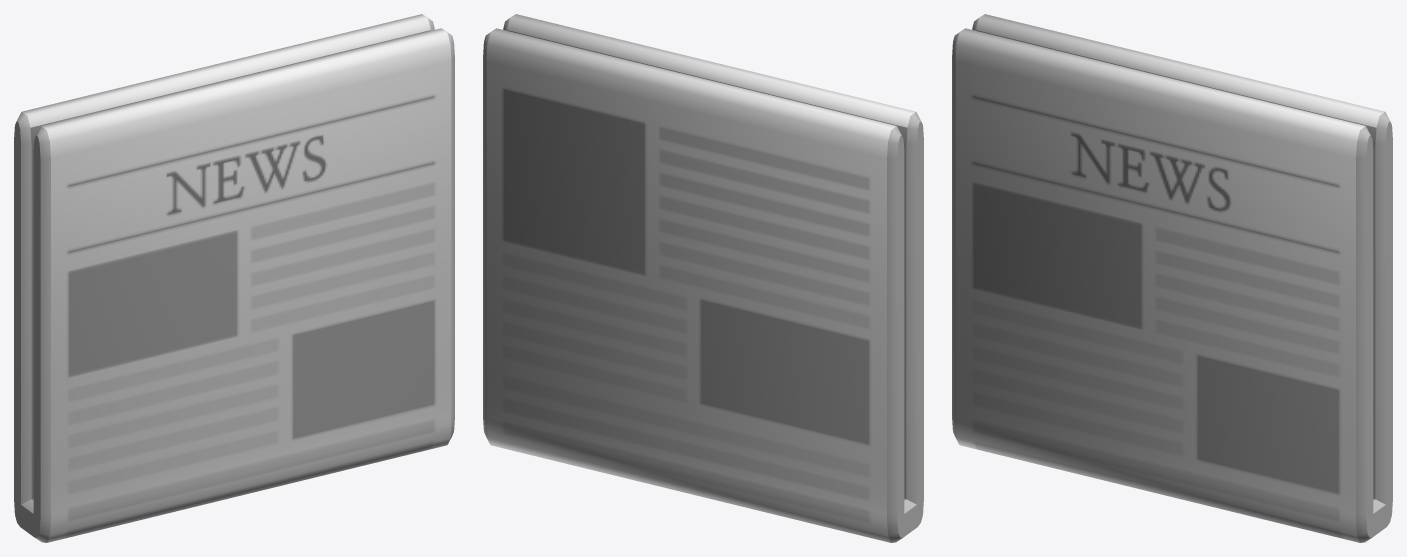
The model's file is ENV2010093.fbx.
The picture shows the model from 3 angles, left to right: view 1: azimuth 30°, elevation 25°; view 2: azimuth 150°, elevation 25°; view 3: azimuth 330°, elevation 25°; orthographic projection.
Parts seen in each view (by area): view 1: smENV2010093; view 2: smENV2010093; view 3: smENV2010093.
Part boxes in pixels (bbox=[...]): smENV2010093: bbox=[14, 14, 454, 542]; smENV2010093: bbox=[483, 14, 923, 542]; smENV2010093: bbox=[952, 14, 1392, 542].
Size of the model in its own units: 28.62 by 27.45 by 4.
1 material, 1 textured.
